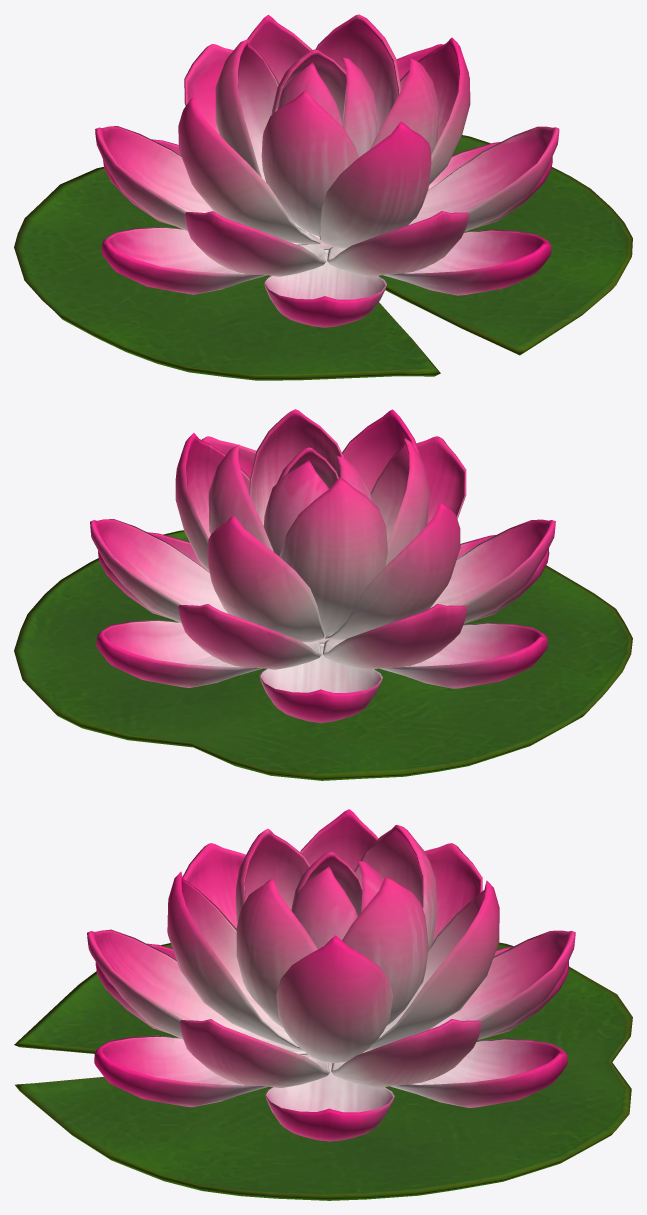
File: lotus.glb
The picture shows the model from 3 angles, top to bottom: view 1: azimuth 30°, elevation 25°; view 2: azimuth 150°, elevation 25°; view 3: azimuth 270°, elevation 25°; orthographic projection. The views are drawn at different scales.
Visible parts, largest first — view 1: defaultMaterial (×2); view 2: defaultMaterial (×2); view 3: defaultMaterial (×2).
Boxes of the visible parts, box(x1,y1,x2,y2) form: defaultMaterial (×2): box(14, 14, 632, 380); defaultMaterial (×2): box(14, 409, 632, 780); defaultMaterial (×2): box(14, 809, 632, 1200).
Bounding box in the file's own units: 0.581 × 0.2215 × 0.5599.
2 materials, 2 textured.
